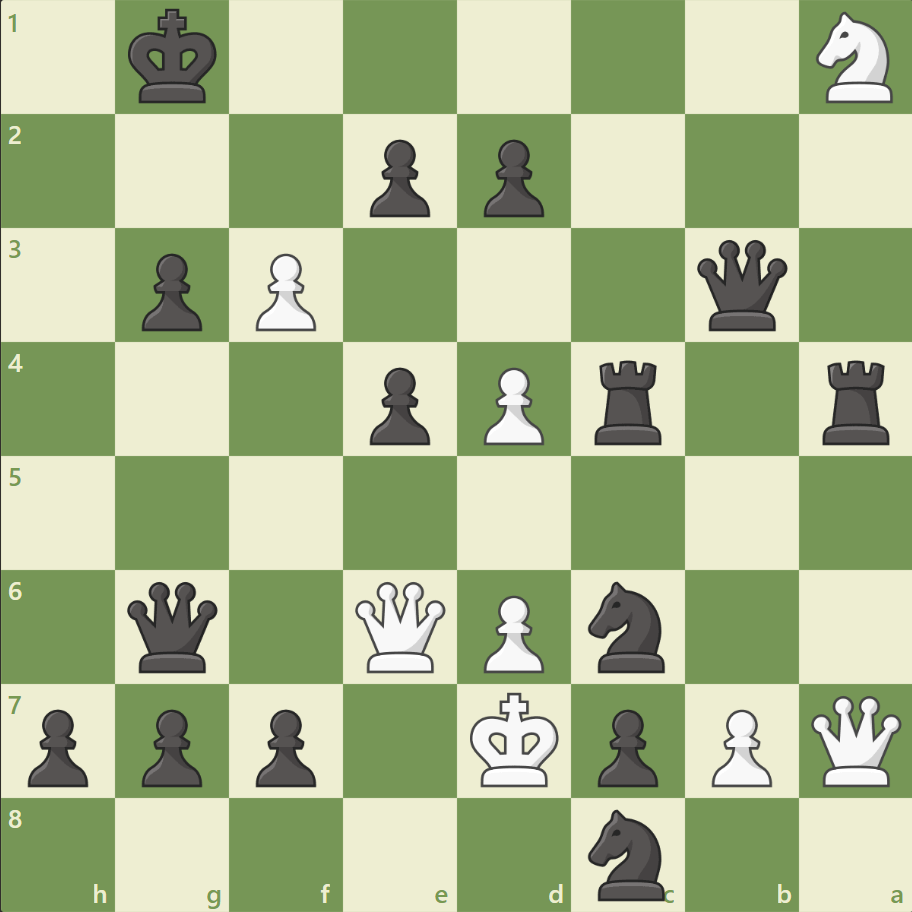K: (465, 685, 565, 793)
N: (806, 7, 903, 110)
P: (701, 700, 776, 791), (474, 586, 549, 677), (474, 359, 549, 450), (247, 246, 322, 337)
Q: (351, 576, 450, 676), (805, 690, 904, 789)
k: (124, 4, 224, 112)
n: (579, 802, 676, 904), (579, 575, 676, 677)
p: (247, 700, 322, 791), (133, 700, 208, 791), (20, 700, 95, 791), (133, 246, 208, 337), (474, 132, 549, 223), (588, 700, 662, 791), (361, 359, 435, 450), (361, 132, 435, 223)
q: (124, 576, 223, 676), (691, 236, 790, 335)
r: (814, 352, 897, 449), (587, 352, 670, 449)
